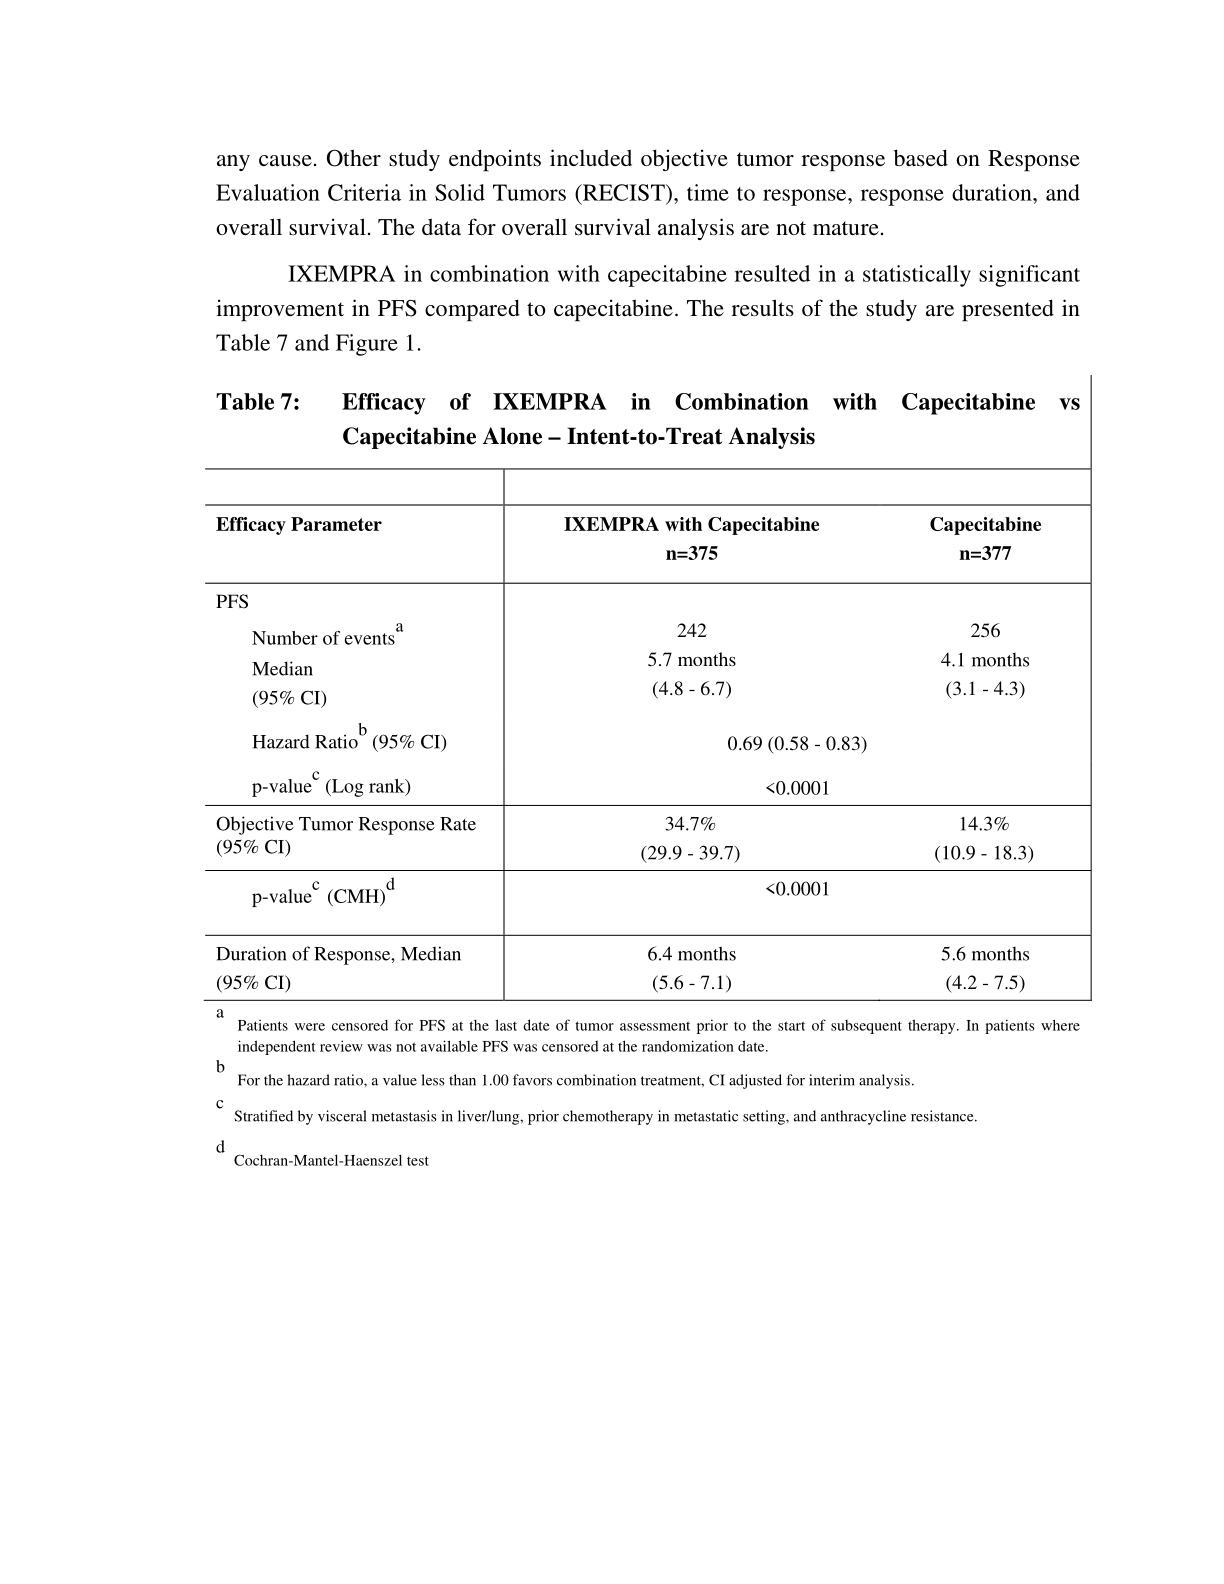partial_lined_merged_cells: (201, 375, 1094, 1003)
